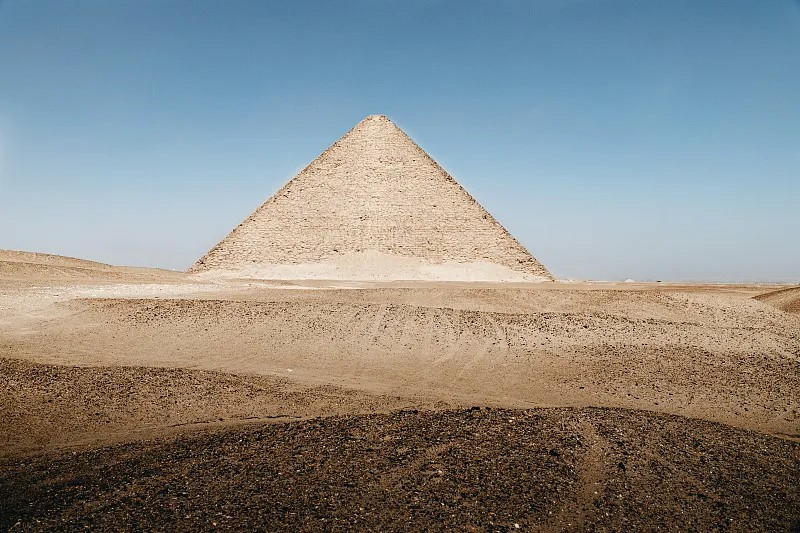Pyramid: (185, 114, 553, 282)
